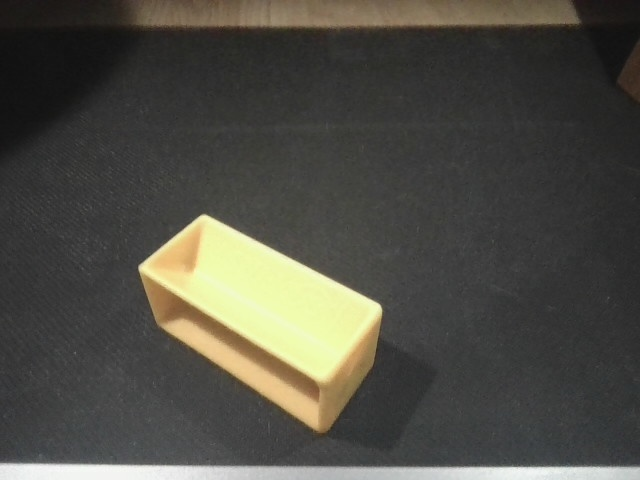YellowSample: (136, 207, 388, 438)
